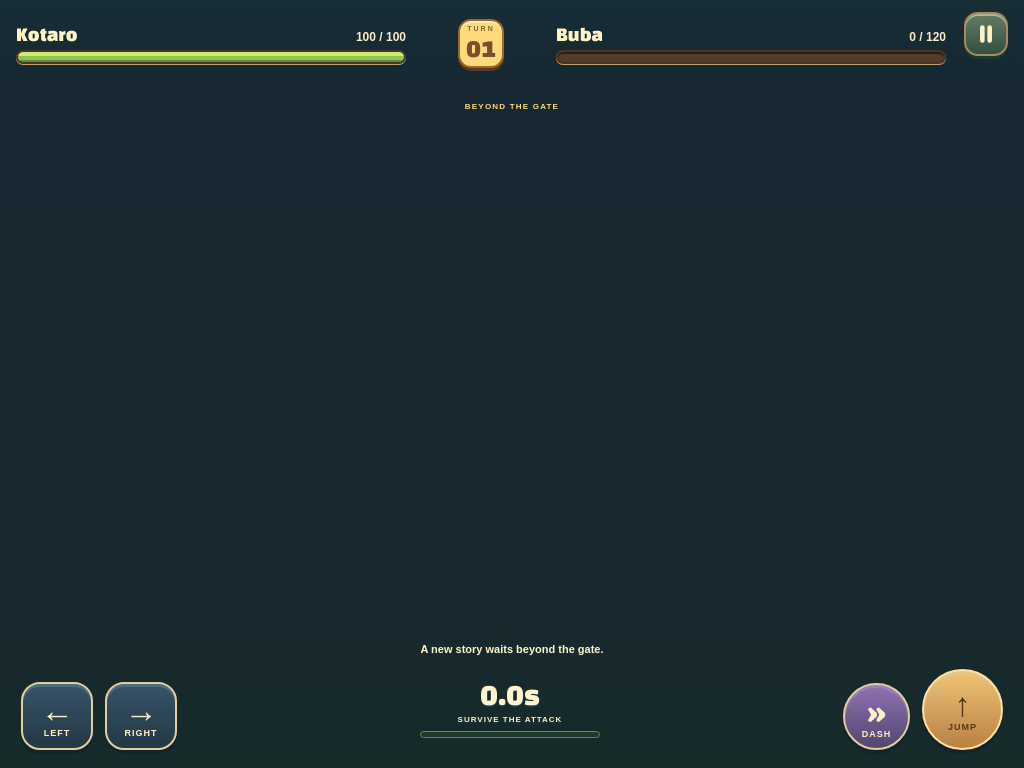
Test case: reset from paused combat closes every menu only after successful deletion
Click the button named "Pause encounter" at [986, 34], box [964,12,1008,56]
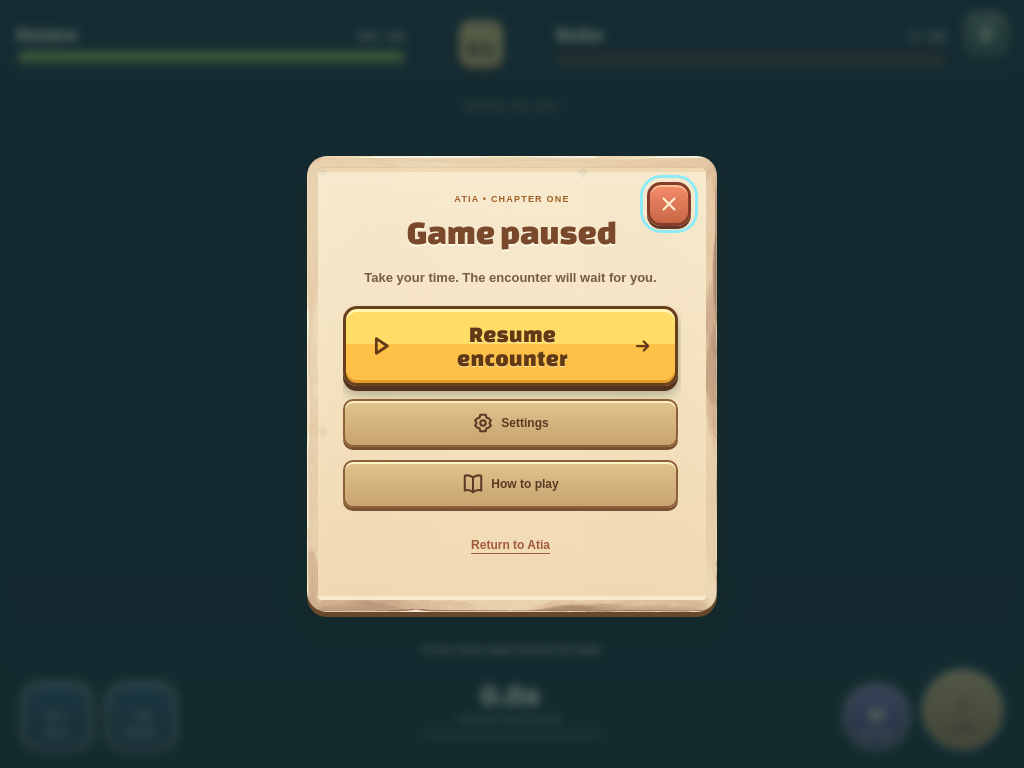
Click the button "Settings" at [510, 423], box [343,399,678,447]
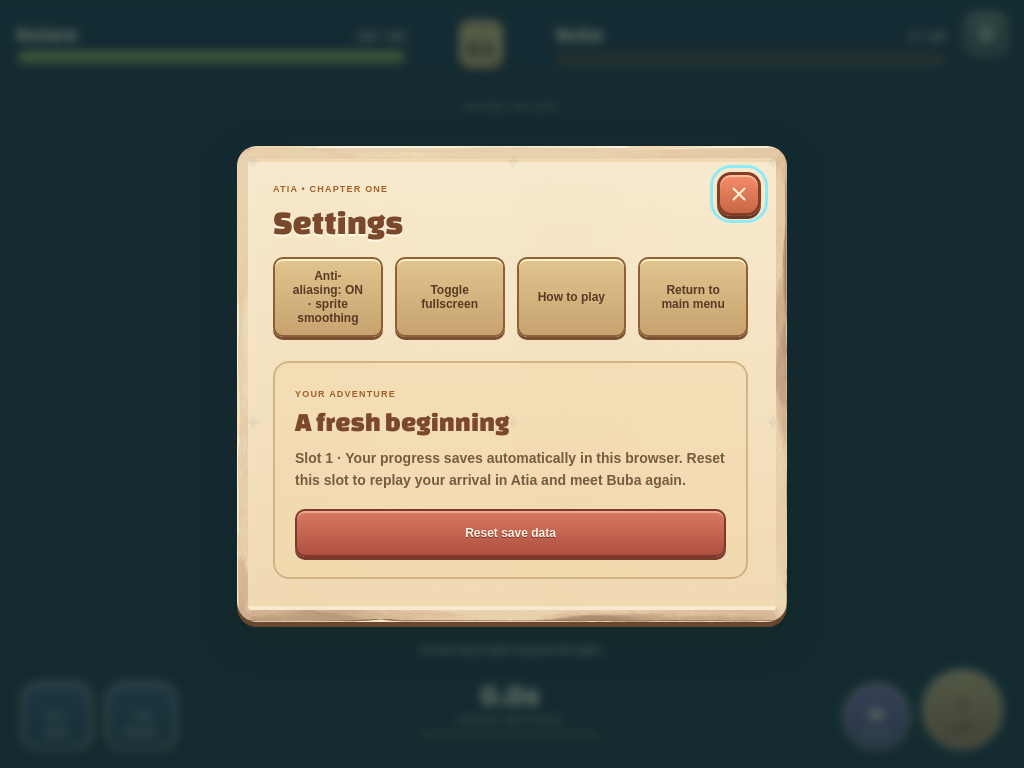
Click the button "Reset save data" at [510, 533], box [295,509,726,557]
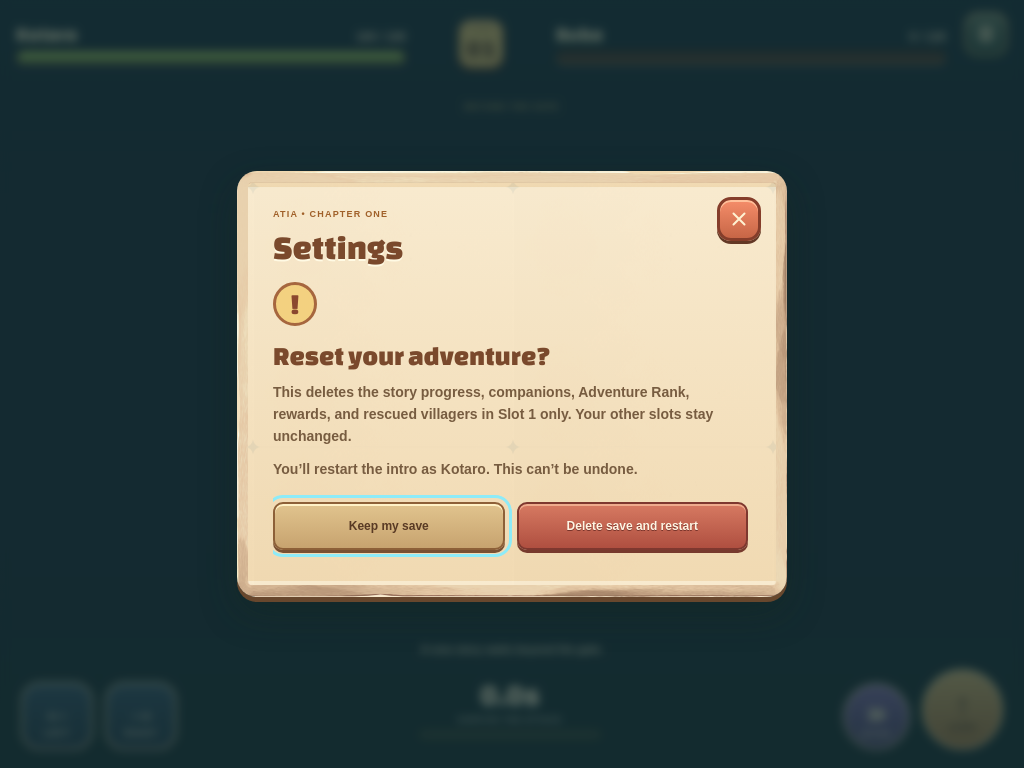
Click the button "Delete save and restart" at [632, 526], box [516,502,748,550]
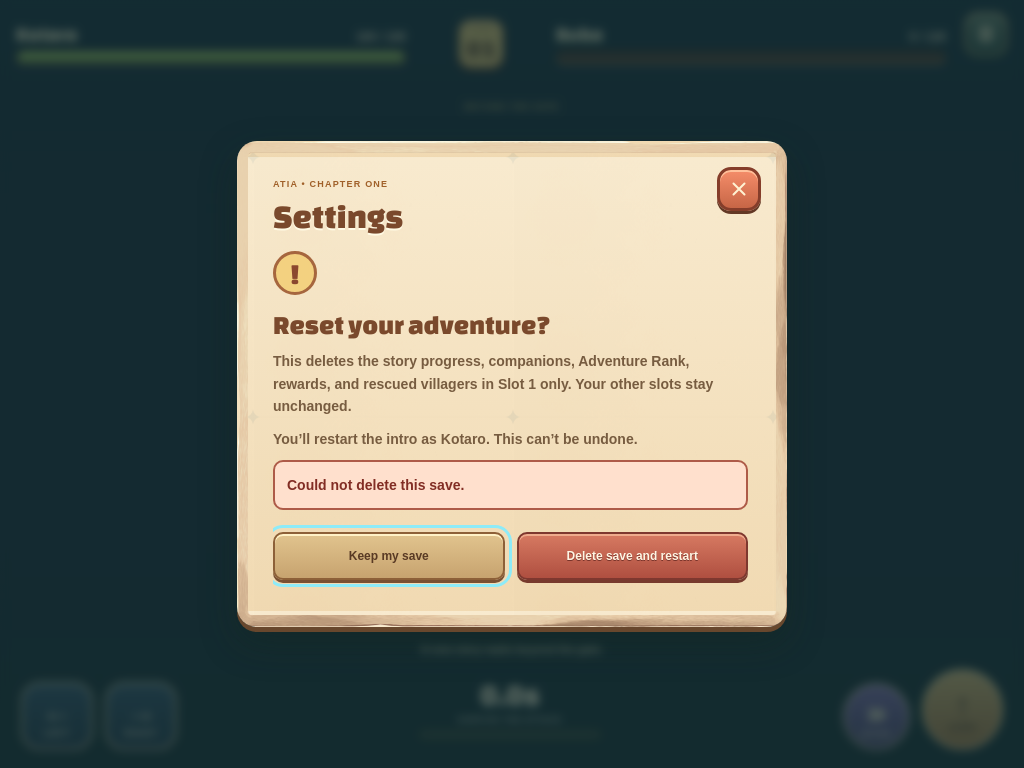
Result: the dialog "Settings" is shown at [237,141,787,627]
Result: the message reads "Could not delete this save." at [287,477,464,493]
Click the button "Delete save and restart" at [632, 556], box [516,532,748,580]
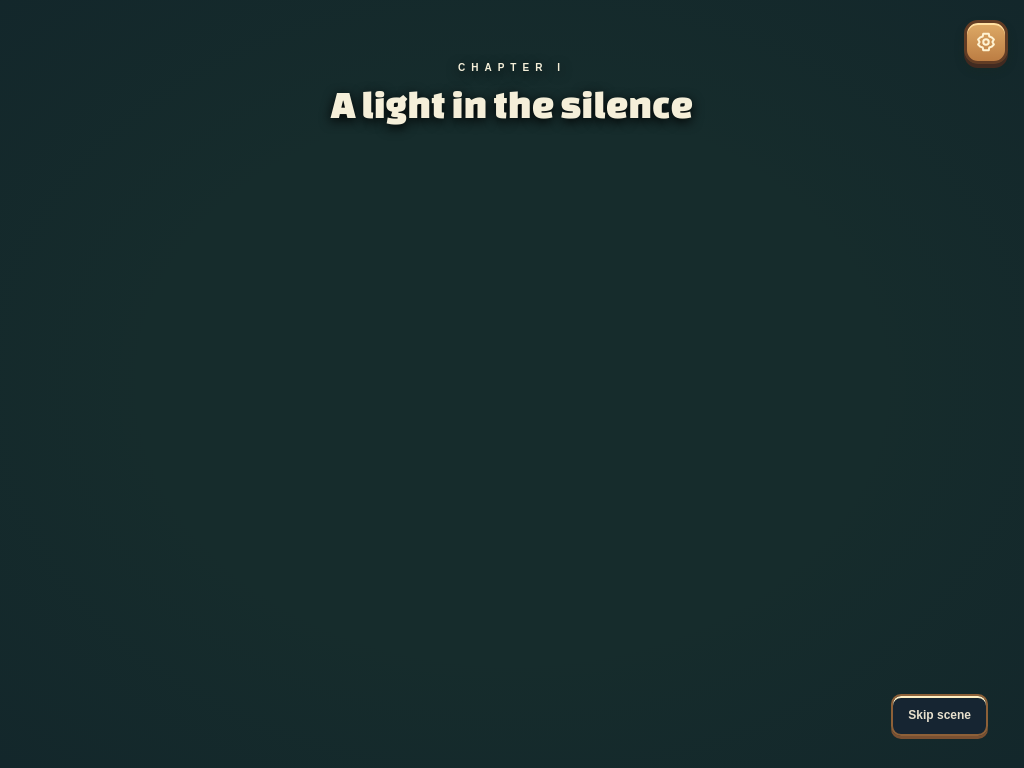
Result: the dialog is gone
Result: the button "Skip scene" is shown at [891,694,988,736]
